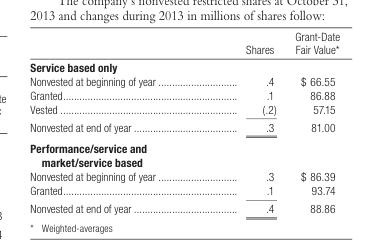table: (29, 29, 339, 214)
table column: (29, 29, 200, 214), (200, 29, 285, 214), (285, 29, 339, 214)
table column header: (29, 29, 339, 57)
table projected row header: (29, 137, 339, 169), (29, 57, 339, 73)
table row: (29, 137, 339, 169), (29, 29, 339, 57), (29, 117, 339, 137), (29, 57, 339, 73), (29, 101, 339, 117), (29, 183, 339, 199), (29, 199, 339, 214), (29, 73, 339, 87), (29, 87, 339, 101), (29, 169, 339, 183)
